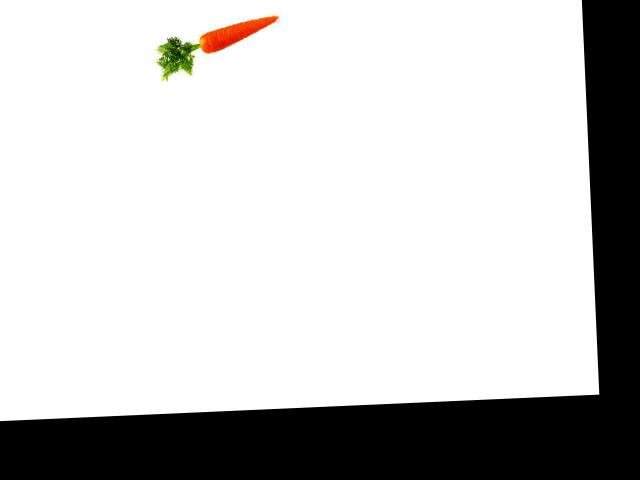carrot: (195, 13, 284, 55)
